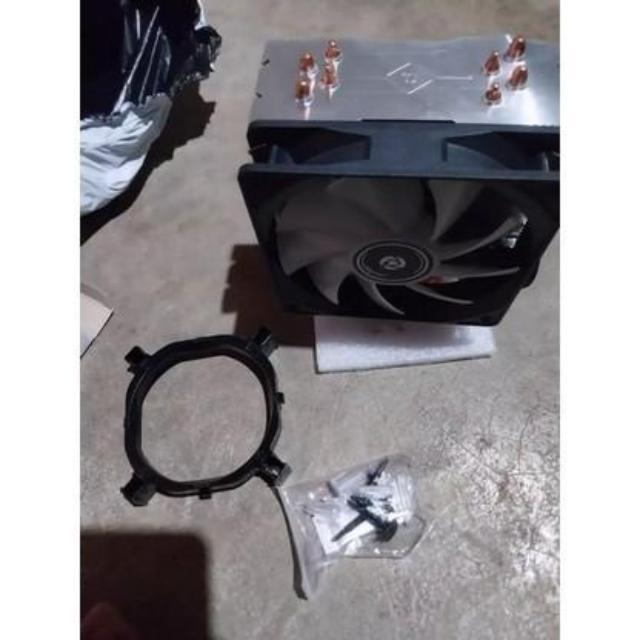CPU_Fan: (238, 32, 564, 326)
